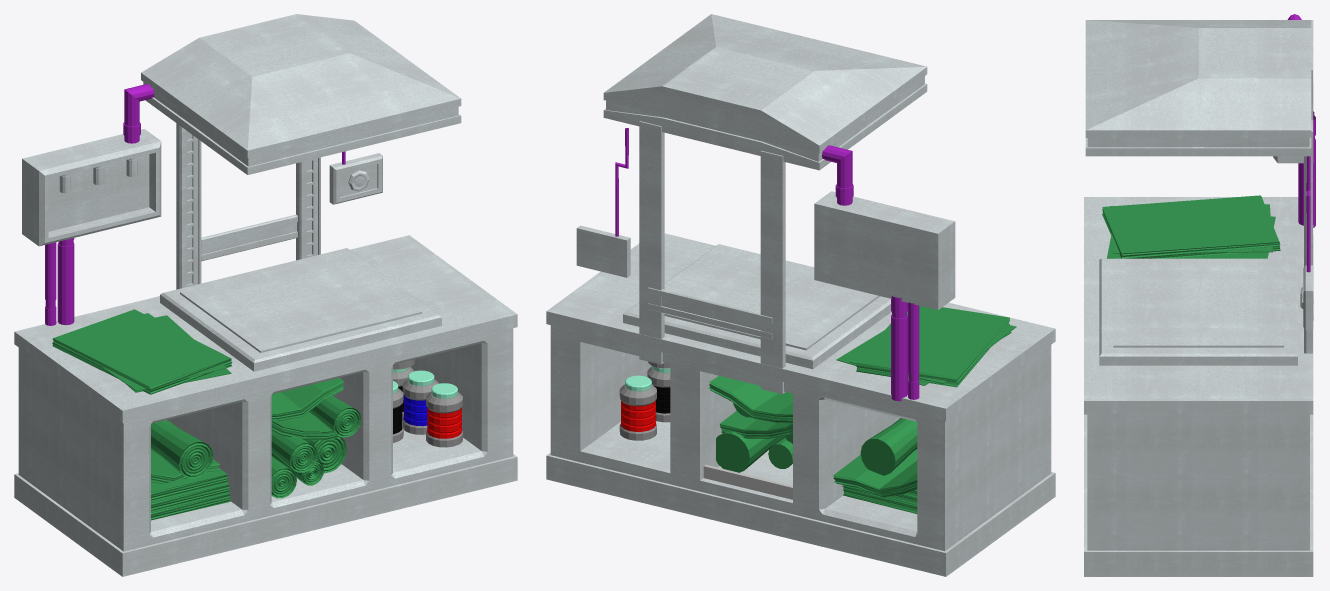
Rendered from copiadora_04.FBX.
3 views of the same model, side by side, from view 1: azimuth 30°, elevation 25°; view 2: azimuth 150°, elevation 25°; view 3: azimuth 270°, elevation 25° (orthographic). The views are drawn at different scales.
Parts seen in each view (by area): view 1: copiadora; view 2: copiadora; view 3: copiadora.
Part boxes in pixels (x1,y1,x2,y2): copiadora: [14, 14, 517, 576]; copiadora: [546, 14, 1055, 576]; copiadora: [1084, 14, 1315, 576].
Bounding box in the file's own units: 2.07 × 0.9921 × 2.08.
